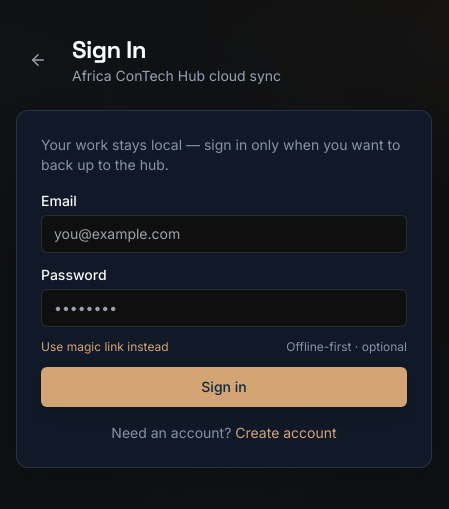
Scenario: LoginPage › shows the error message when sign-in fails
Step 1. Type "a@b.com" into the field labelled "Email" → {"x": 224, "y": 234}, box [41, 215, 407, 253]
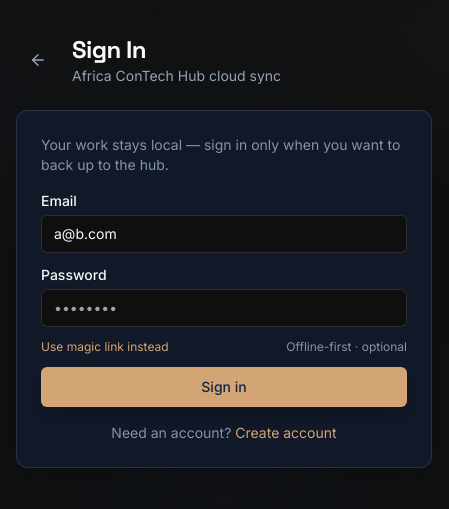
Step 2. Type "bad" into the password field labelled "Password" → {"x": 224, "y": 308}, box [41, 289, 407, 327]
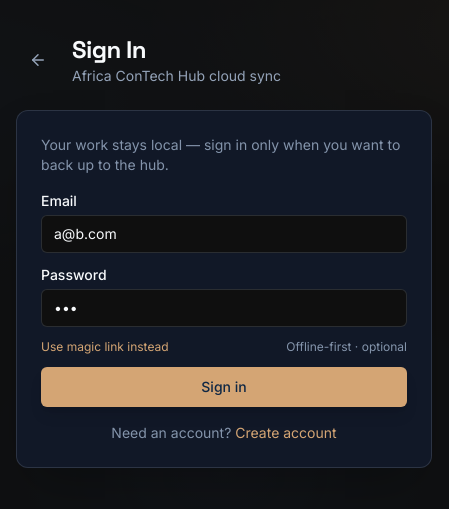
Step 3. Click the button "Sign in" → {"x": 224, "y": 387}, box [41, 367, 407, 407]
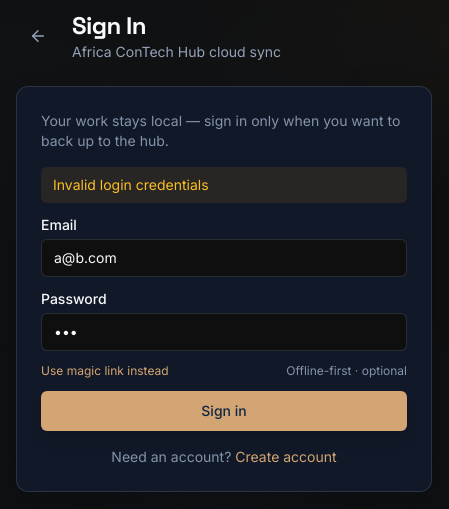
Expected: the text "Invalid login credentials" is shown, [41, 167, 407, 203]
